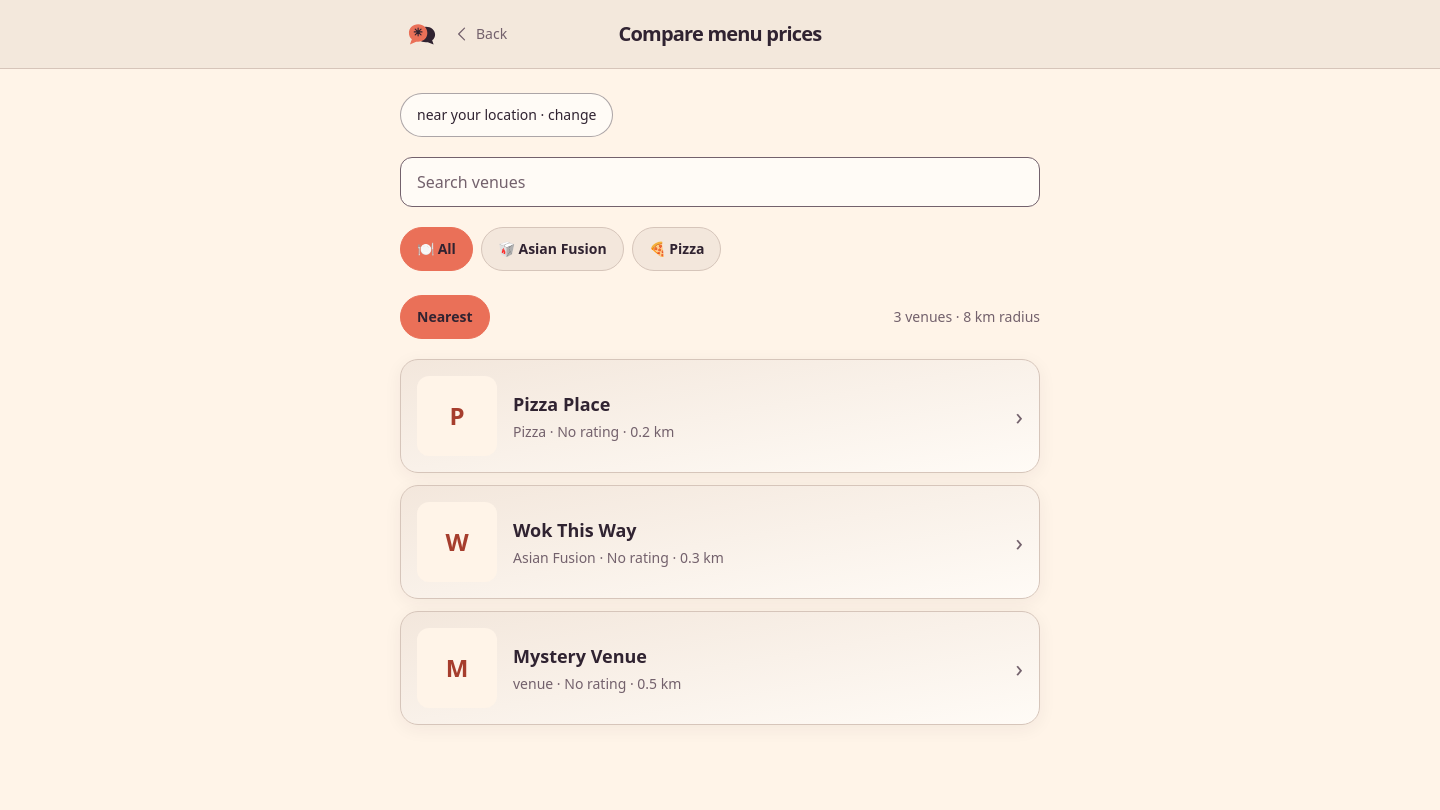
Test: ComparePage › filters by one Cuisine and clears when the chip or All is tapped
Click the button "🍕 Pizza".
click(677, 249)  # box [632, 227, 722, 271]
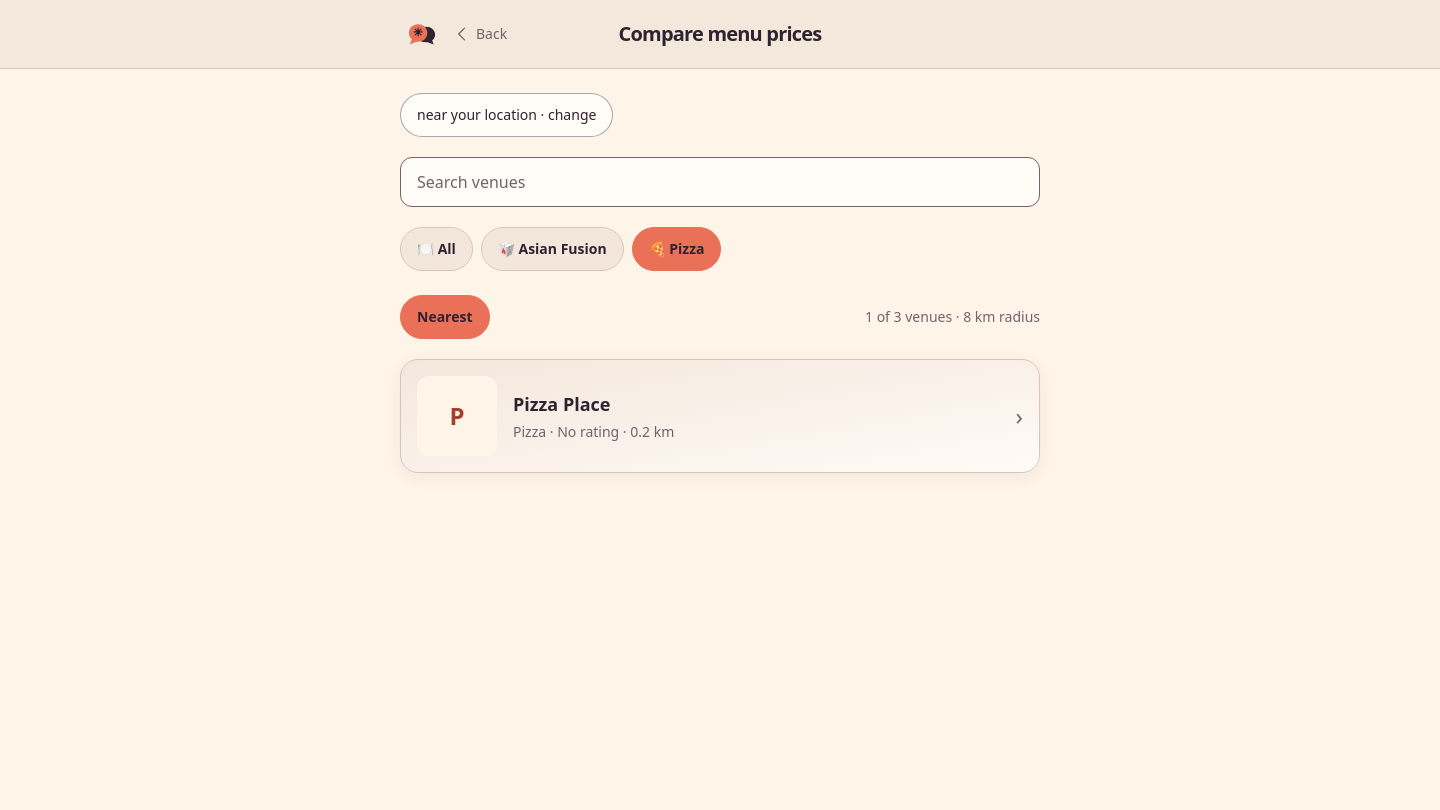
Check: the text "1 of 3 venues · 8 km radius" is shown, box [865, 307, 1040, 327]
Check: the button "Wok This Way" is gone
Check: the button "Mystery Venue" is gone
Click the button "🍕 Pizza".
click(677, 249)  # box [632, 227, 722, 271]
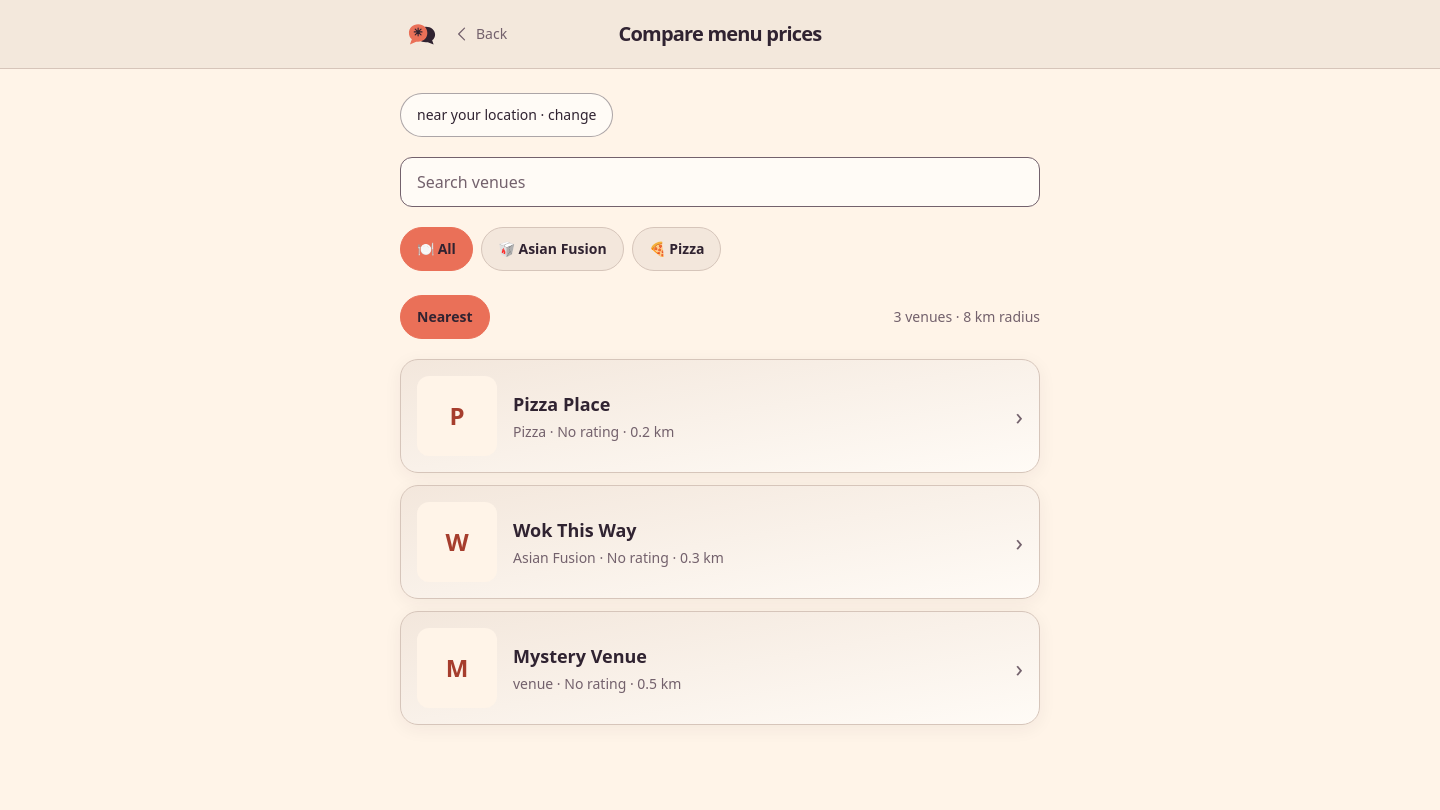
Check: the text "3 venues · 8 km radius" is shown, box [894, 307, 1040, 327]
Check: the text "Wok This Way" is shown, box [513, 518, 637, 542]
Click the button "🥡 Asian Fusion".
click(552, 249)  # box [481, 227, 624, 271]
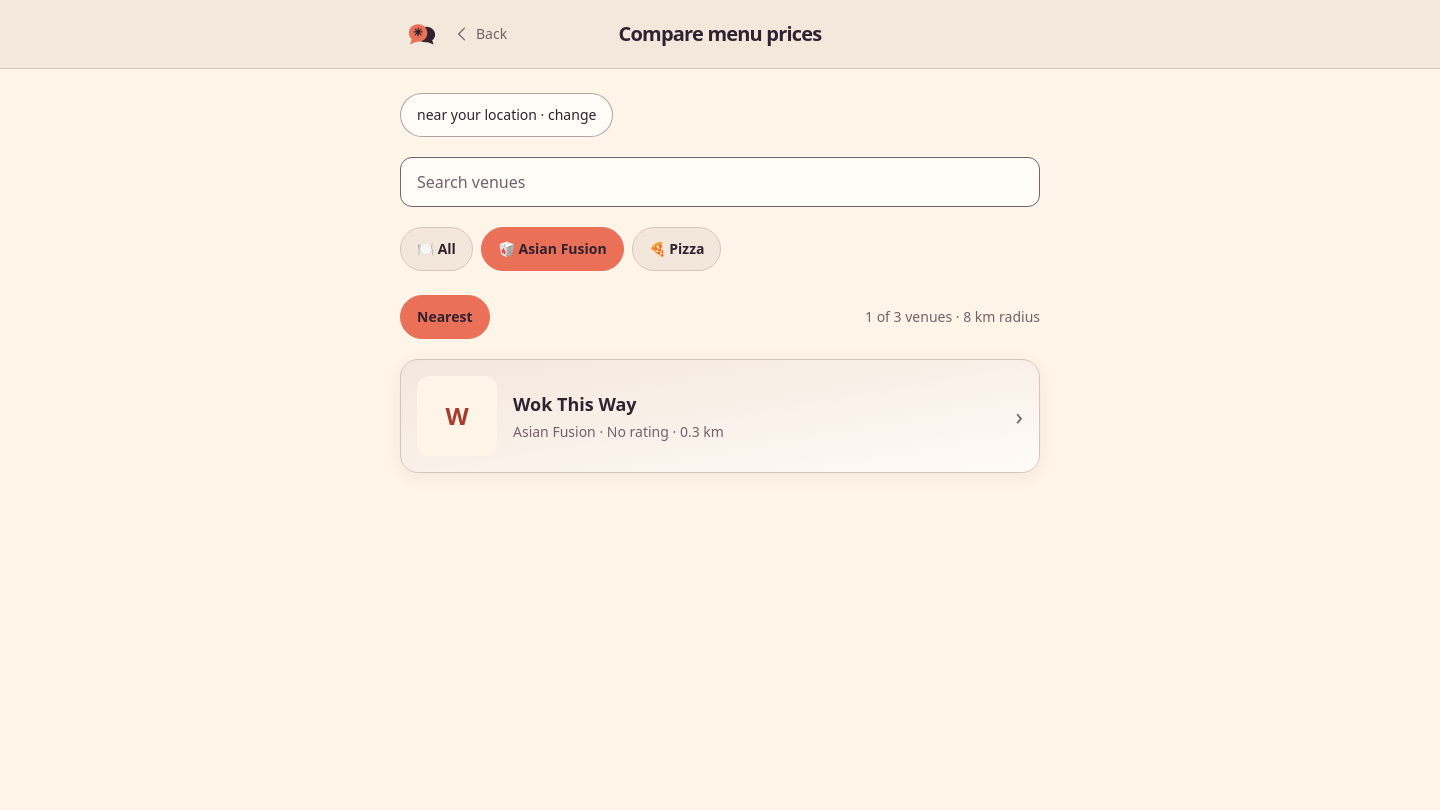
Click the button "🍽️ All".
click(436, 249)  # box [400, 227, 473, 271]
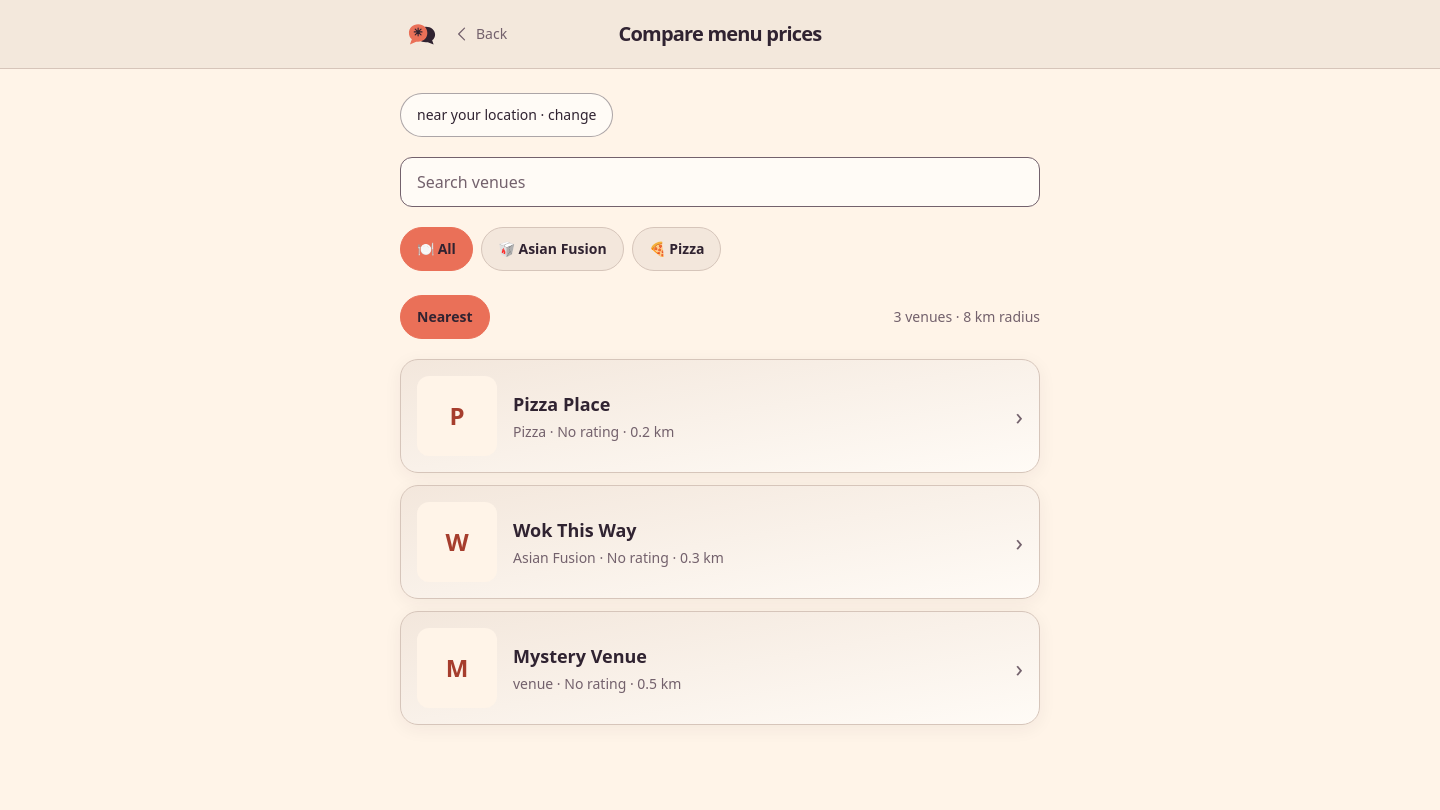
Check: the text "Mystery Venue" is shown, box [513, 644, 647, 668]
Check: the button "M Mystery Venue venue · No rating · 0.5 km ›" is shown, box [400, 611, 1040, 725]
